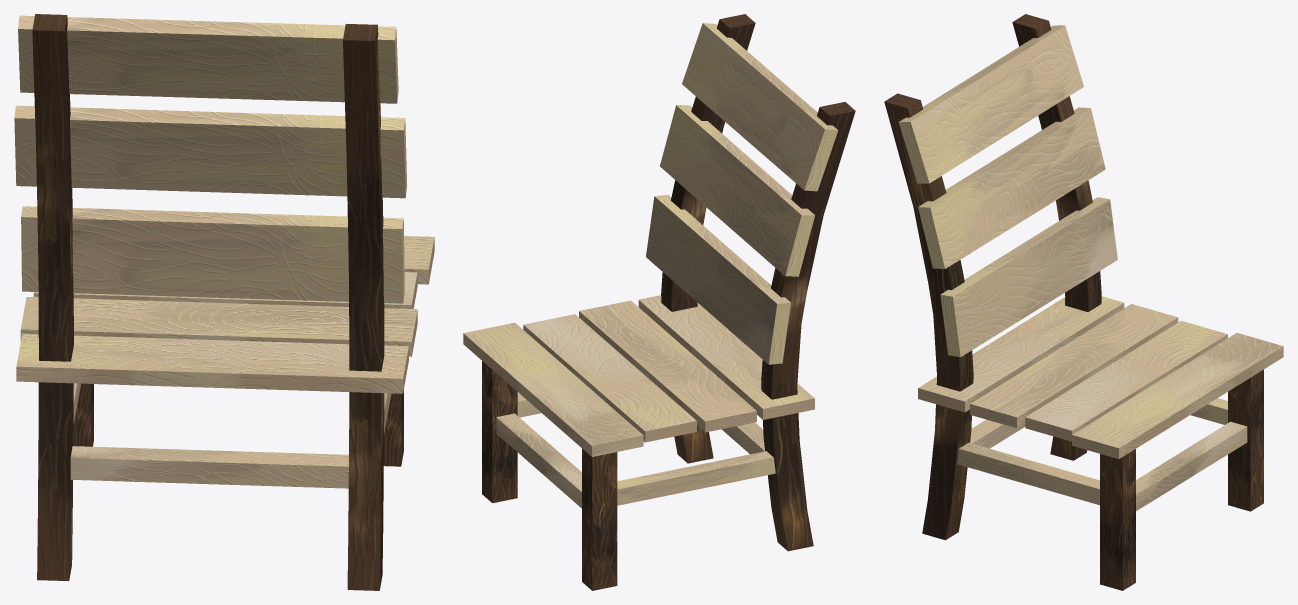
The model's file is Tutorial_Chair_Textured.fbx.
The picture shows the model from 3 angles, left to right: view 1: azimuth 30°, elevation 25°; view 2: azimuth 150°, elevation 25°; view 3: azimuth 270°, elevation 25°; orthographic projection. The views are drawn at different scales.
Parts seen in each view (by area): view 1: Chair3; view 2: Chair3; view 3: Chair3.
Boxes of the visible parts, <box> form: Chair3: <box>14,14,434,590</box>; Chair3: <box>463,14,855,590</box>; Chair3: <box>884,14,1283,590</box>.
Size of the model in its own units: 6.44 by 7.61 by 6.55.
1 material, 1 textured.
